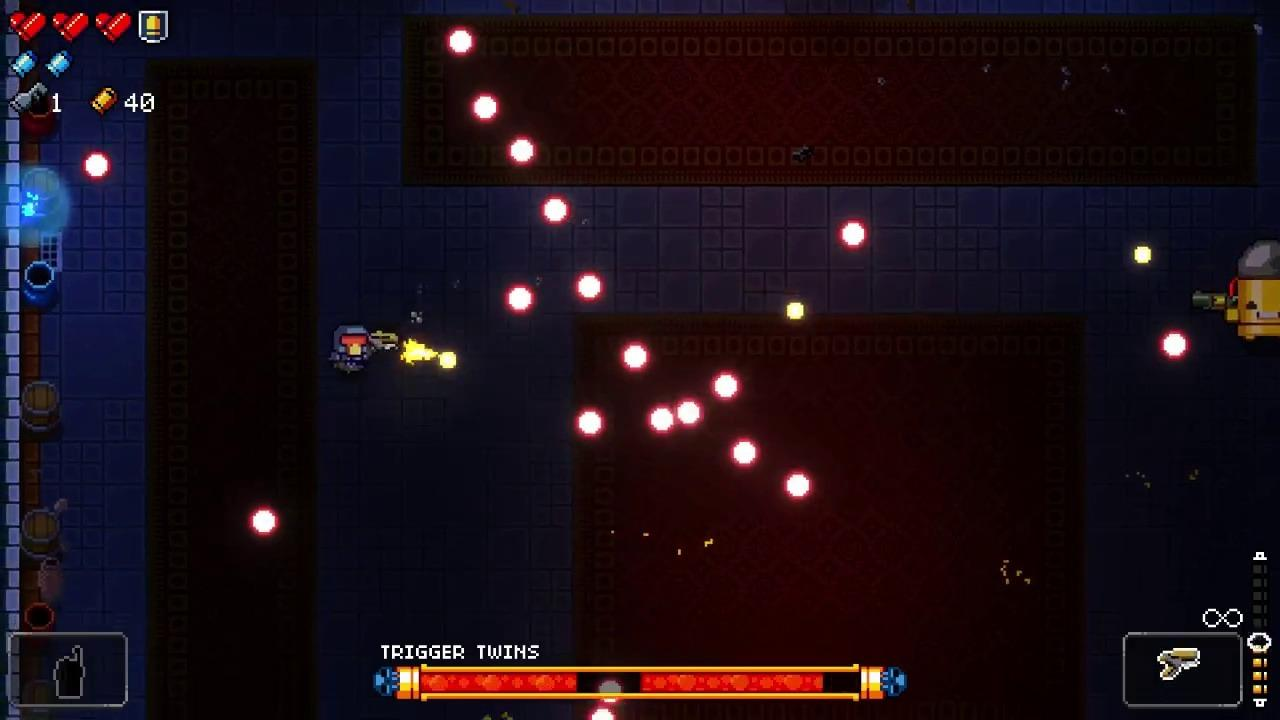boss_smiley: (1235, 239, 1280, 340)
bullet: (835, 217, 870, 250), (1157, 328, 1192, 360), (781, 470, 814, 502), (79, 150, 111, 182), (617, 341, 650, 372), (575, 409, 606, 441), (471, 94, 501, 126), (729, 441, 762, 470), (505, 136, 535, 167), (540, 195, 571, 225), (573, 271, 603, 302), (711, 372, 742, 402), (445, 27, 474, 59), (505, 285, 534, 315), (648, 408, 680, 435), (677, 402, 705, 430), (252, 509, 278, 539)
player: (332, 326, 372, 375)
